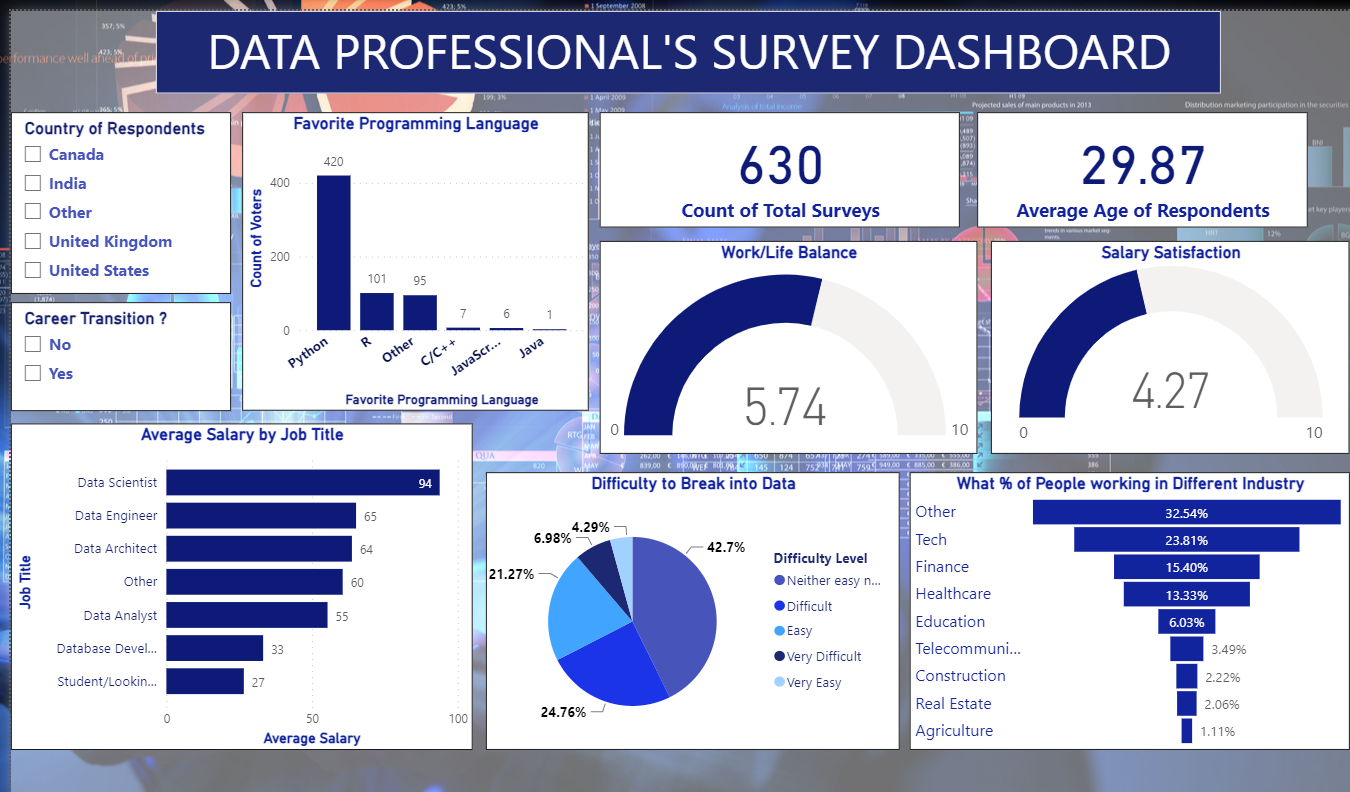

This screenshot's page, from the dashboard's own definition file:
{"tool":"powerbi","page":{"name":" Dashboard","canvas":[1500,800],"ordinal":0},"visuals":[{"type":"textbox","box":[145,0,1065,82.5],"z":0},{"type":"card","fields":{"Values":["CountNonNull(Data Professional Survey.Unique ID)"]},"box":[588.8,101.2,360,115],"z":1000},{"type":"barChart","title":" Average Salary by Job Title ","fields":{"Y":["Avg(Data Professional Survey.Average Salary)"],"Category":["Data Professional Survey.Q1 - Which Title Best Fits your Current Role?.1"]},"box":[0,412.5,461.2,326.2],"z":2000},{"type":"card","fields":{"Values":["Avg(Data Professional Survey.Q10 - Current Age)"]},"box":[966.2,101.2,330,115],"z":3000},{"type":"lineStackedColumnComboChart","title":" Favorite Programming Language","fields":{"Category":["Data Professional Survey.Q5 - Favorite Programming Language"],"Y":["CountNonNull(Data Professional Survey.Unique ID)"]},"box":[231.2,101.2,346.2,298.8],"z":4000},{"type":"slicer","title":" Average Salary by Job Title ","fields":{"Values":["Data Professional Survey.Q11 - Which Country do you live in?"]},"box":[0,101.2,220,181.2],"z":5000},{"type":"gauge","title":"Work/Life Balance","fields":{"Y":["Avg(Data Professional Survey.Q6 - How Happy are you in your Current Position with the following? (Work/Life Balance))"],"MinValue":["Min(Data Professional Survey.Q6 - How Happy are you in your Current Position with the following? (Work/Life Balance))"],"MaxValue":["Max(Data Professional Survey.Q6 - How Happy are you in your Current Position with the following? (Work/Life Balance))"]},"box":[588.8,230,377.5,212.5],"z":6000},{"type":"gauge","title":" Salary Satisfaction","fields":{"Y":["Avg(Data Professional Survey.Q6 - How Happy are you in your Current Position with the following? (Salary))"],"MinValue":["Min(Data Professional Survey.Q6 - How Happy are you in your Current Position with the following? (Salary))"],"MaxValue":["Max(Data Professional Survey.Q6 - How Happy are you in your Current Position with the following? (Salary))1"]},"box":[980,230,358.8,212.5],"z":7000},{"type":"pieChart","title":"Difficulty to Break into Data","fields":{"Category":["Data Professional Survey.Q7 - How difficult was it for you to break into Data?"],"Y":["CountNonNull(Data Professional Survey.Q7 - How difficult was it for you to break into Data?)"]},"box":[475,461.2,413.8,277.5],"z":8000},{"type":"funnel","title":"What % of People working in Different Industry ","fields":{"Category":["Data Professional Survey.Q4 - What Industry do you work in?"],"Y":["CountNonNull(Data Professional Survey.Unique ID)"]},"box":[898.8,461.2,440,277.5],"z":9000},{"type":"slicer","title":" Average Salary by Job Title ","fields":{"Values":["Data Professional Survey.Q2 - Did you switch careers into Data?"]},"box":[0,291.2,220,108.8],"z":10000}]}

Visuals, with their boxes on the page's 1500x800 design canvas (x1, y1, x2, y2). These are canvas units, not pixel positions in the 1350x792 screenshot, which may show the page scaled, cropped or inside an application window:
textbox: {"x1": 145, "y1": 0, "x2": 1210, "y2": 82}
card - CountNonNull(Data Professional Survey.Unique ID): {"x1": 589, "y1": 101, "x2": 949, "y2": 216}
" Average Salary by Job Title " barChart: {"x1": 0, "y1": 412, "x2": 461, "y2": 739}
card - Avg(Data Professional Survey.Q10 - Current Age): {"x1": 966, "y1": 101, "x2": 1296, "y2": 216}
" Favorite Programming Language" lineStackedColumnComboChart: {"x1": 231, "y1": 101, "x2": 577, "y2": 400}
" Average Salary by Job Title " slicer: {"x1": 0, "y1": 101, "x2": 220, "y2": 282}
"Work/Life Balance" gauge: {"x1": 589, "y1": 230, "x2": 966, "y2": 442}
" Salary Satisfaction" gauge: {"x1": 980, "y1": 230, "x2": 1339, "y2": 442}
"Difficulty to Break into Data" pieChart: {"x1": 475, "y1": 461, "x2": 889, "y2": 739}
"What % of People working in Different Industry " funnel: {"x1": 899, "y1": 461, "x2": 1339, "y2": 739}
" Average Salary by Job Title " slicer: {"x1": 0, "y1": 291, "x2": 220, "y2": 400}
